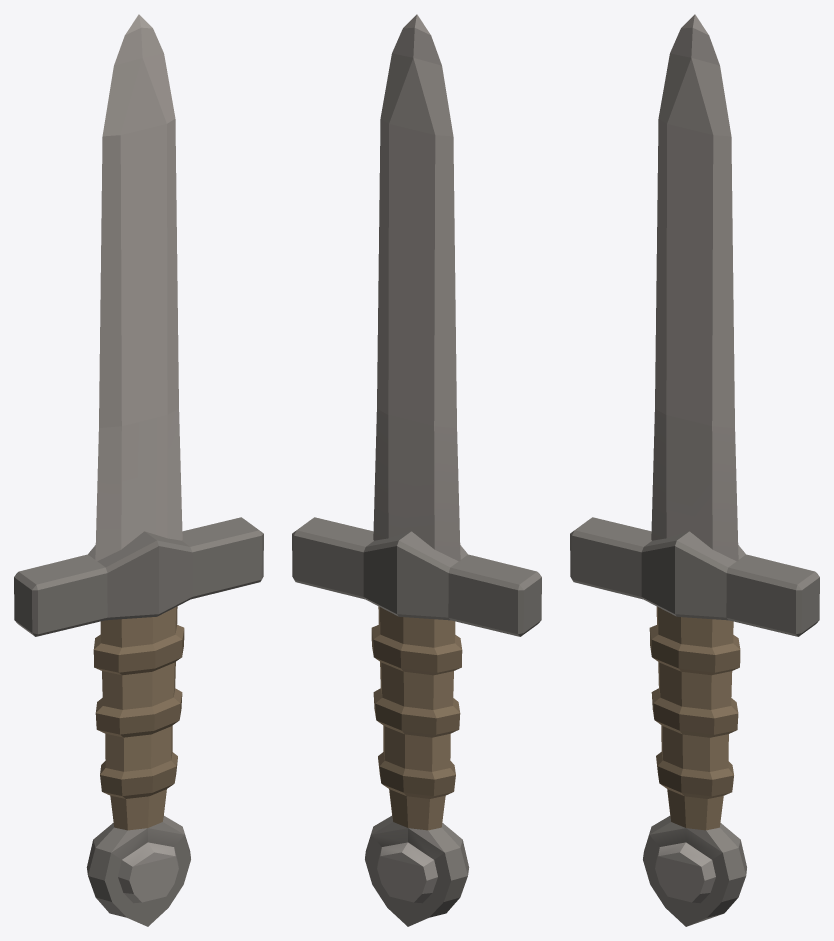
File: SM_pwe_medieval_dagger_01.fbx
3 renders of one model, left to right at view 1: azimuth 30°, elevation 25°; view 2: azimuth 150°, elevation 25°; view 3: azimuth 330°, elevation 25°, orthographic.
Parts seen in each view (by area): view 1: SM_pwe_medieval_dagger_01; view 2: SM_pwe_medieval_dagger_01; view 3: SM_pwe_medieval_dagger_01.
Boxes of the visible parts, x1,y1,x2,y2 form: SM_pwe_medieval_dagger_01: (14, 14, 263, 926); SM_pwe_medieval_dagger_01: (292, 14, 541, 926); SM_pwe_medieval_dagger_01: (570, 14, 819, 926).
Size of the model in its own units: 14.72 by 54.96 by 4.41.
